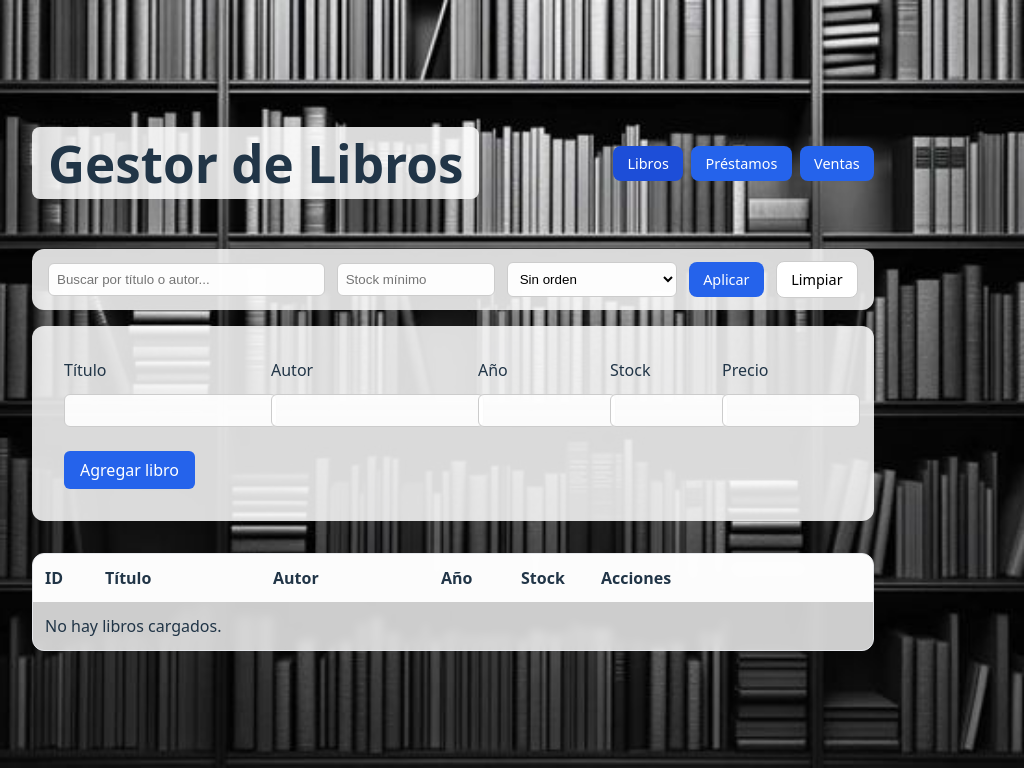
App filters and views › cambia a Préstamos y carga lista
Expected: the text "No hay libros cargados." is shown, [45,616,222,638]
Step 1. Click the button "Préstamos" → {"x": 741, "y": 163}, box [691,146,792,180]
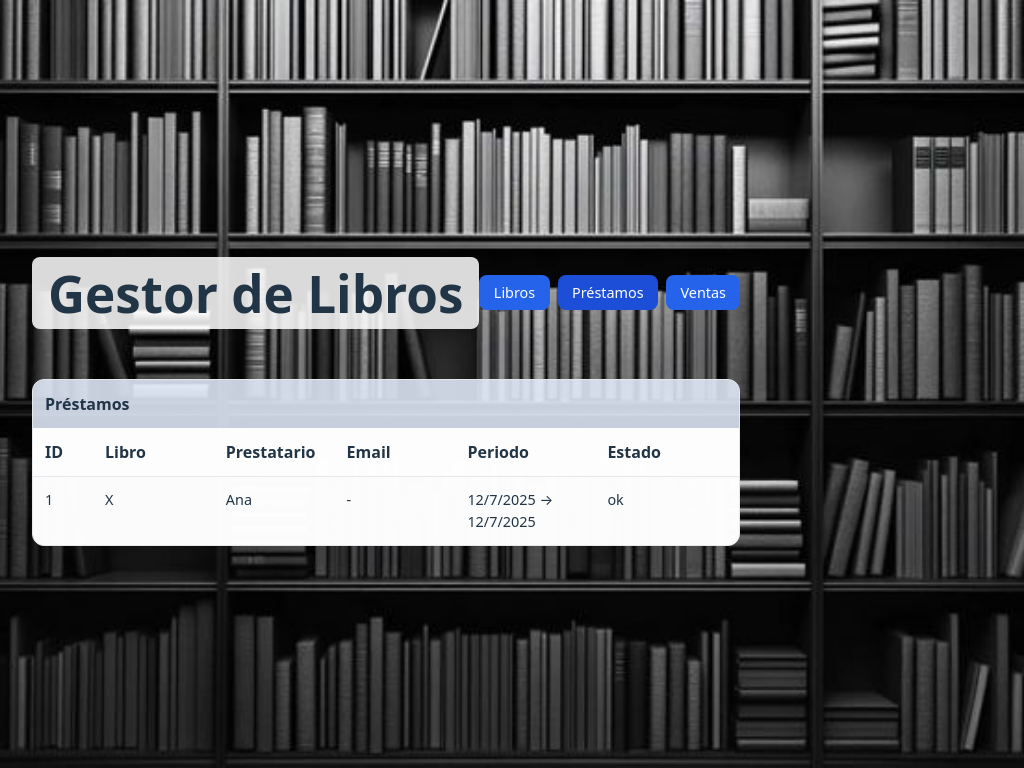
Expected: the text "X" is shown, [105,490,113,509]
